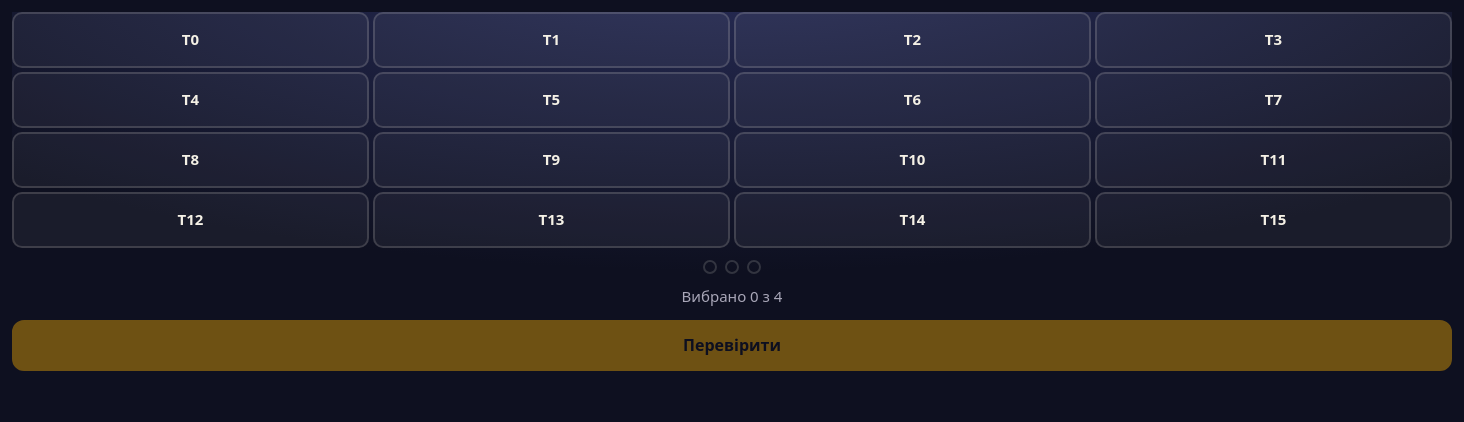
Test: WallInput › wall_repeat shows the message and keeps the pick
The width and height of the screenshot is (1464, 422).
Click the button "Т0". click: [190, 40]
box: [12, 12, 369, 68]
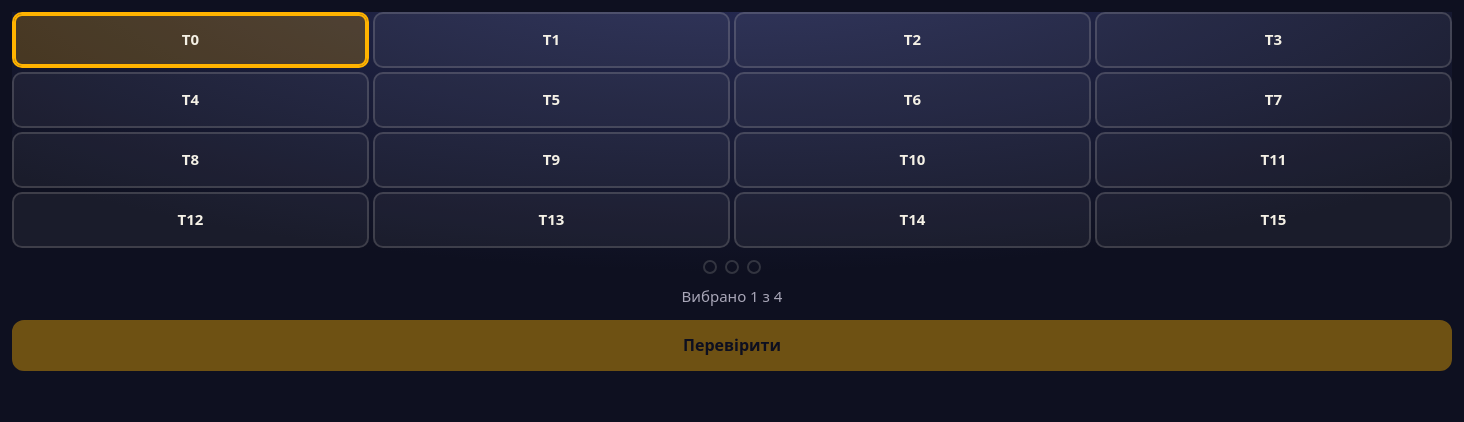
Click the button "Т1". click: [552, 40]
box: [373, 12, 730, 68]
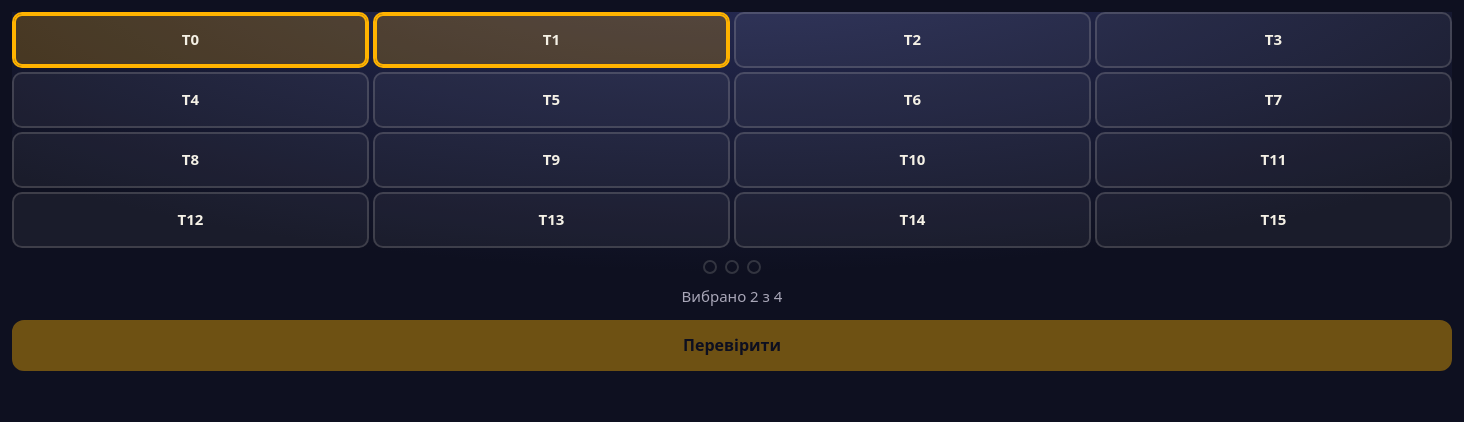
Click the button "Т2". click: [912, 40]
box: [734, 12, 1091, 68]
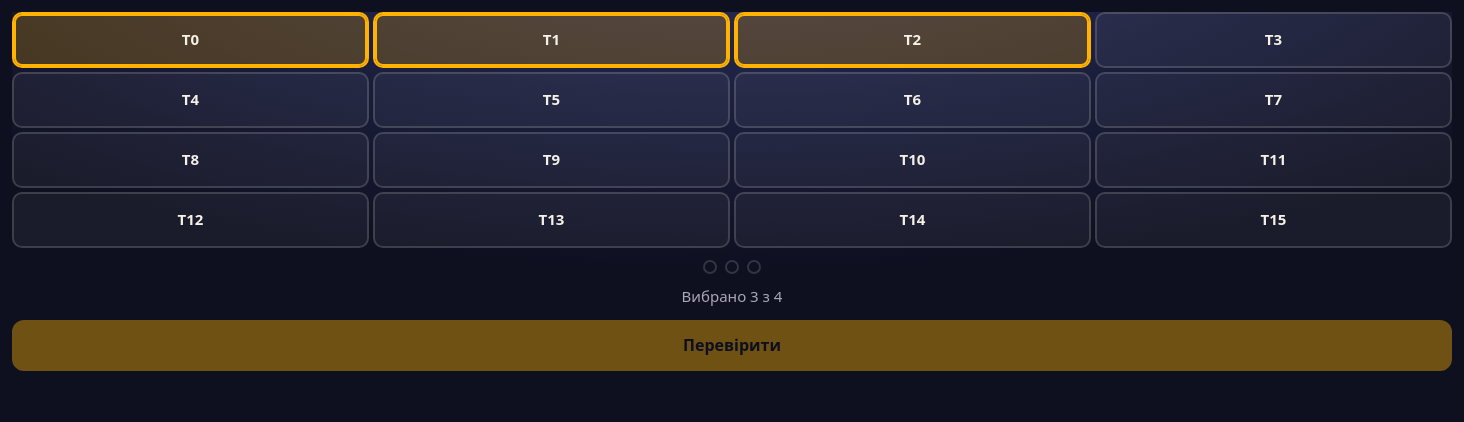
Click the button "Т3". click: [1274, 40]
box: [1095, 12, 1452, 68]
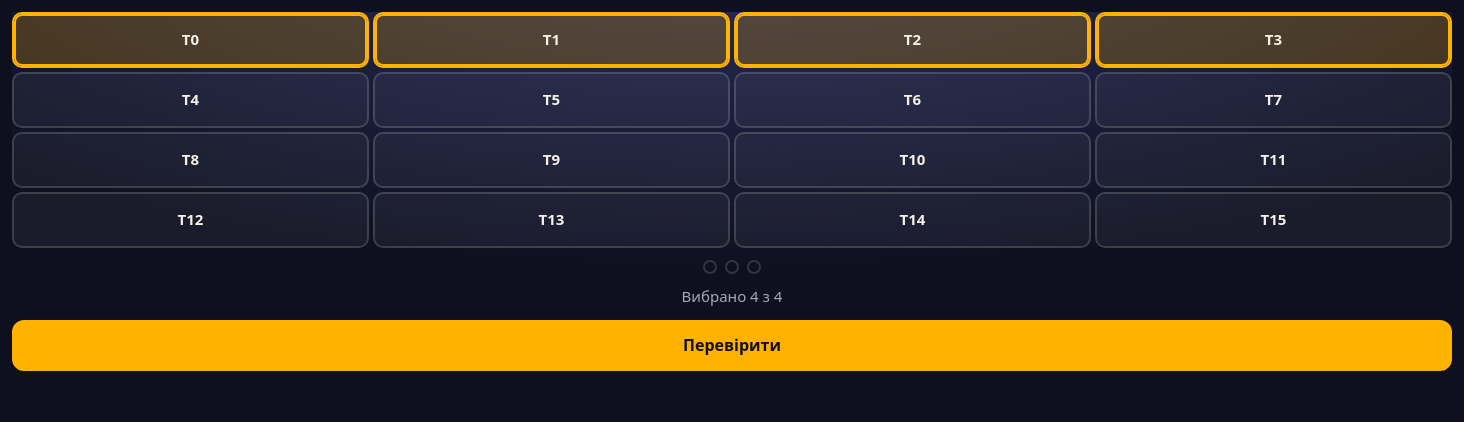
Click the button "Перевірити". click: [732, 345]
box: [12, 320, 1452, 371]
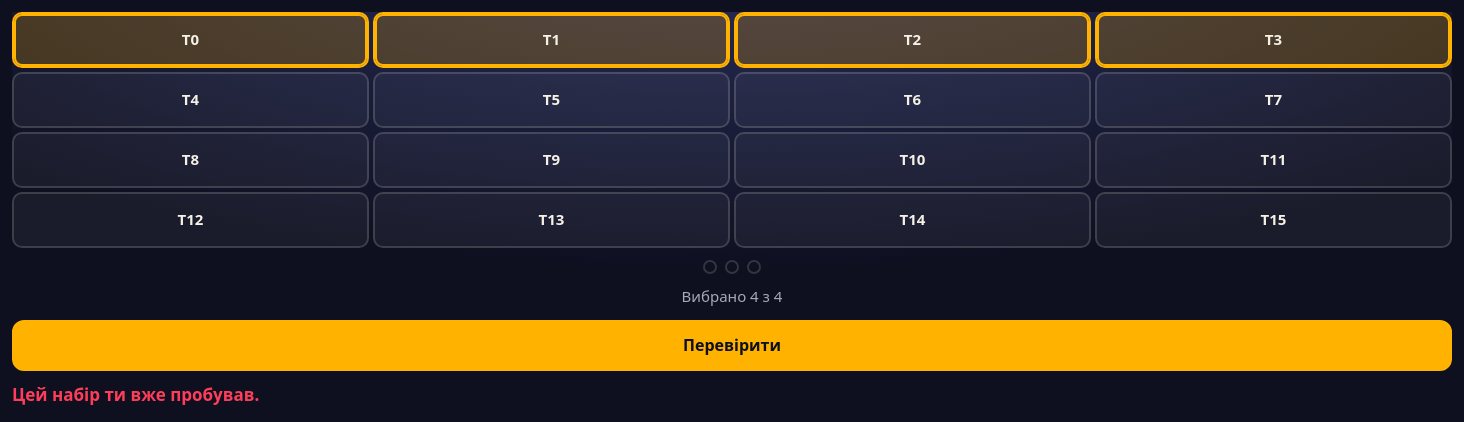
Expected: the text "Вибрано 4 з 4" is shown, [682, 286, 782, 306]
Expected: the text "Цей набір ти вже пробував." is shown, [12, 383, 259, 406]
